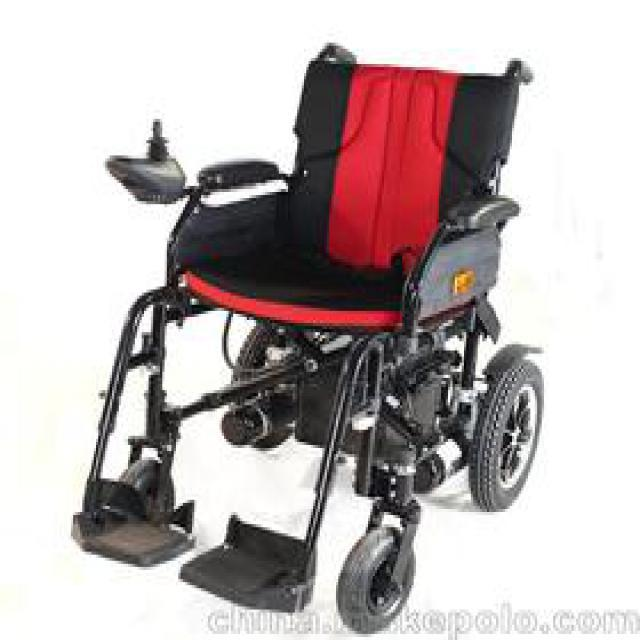wheelchair: (68, 39, 544, 630)
